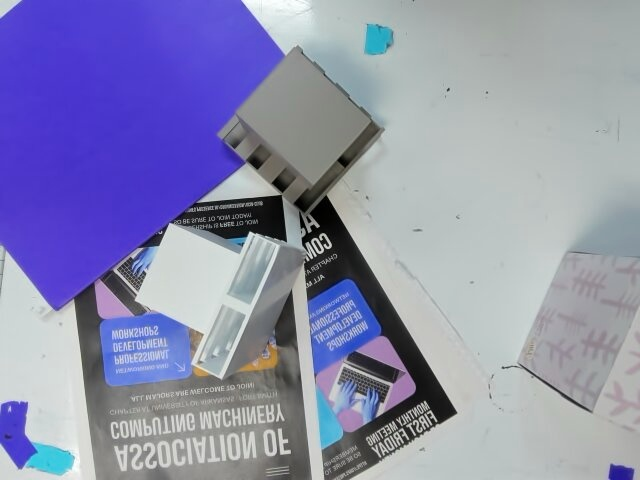grey pallet: (216, 45, 406, 213)
white pallet: (125, 206, 311, 380)
